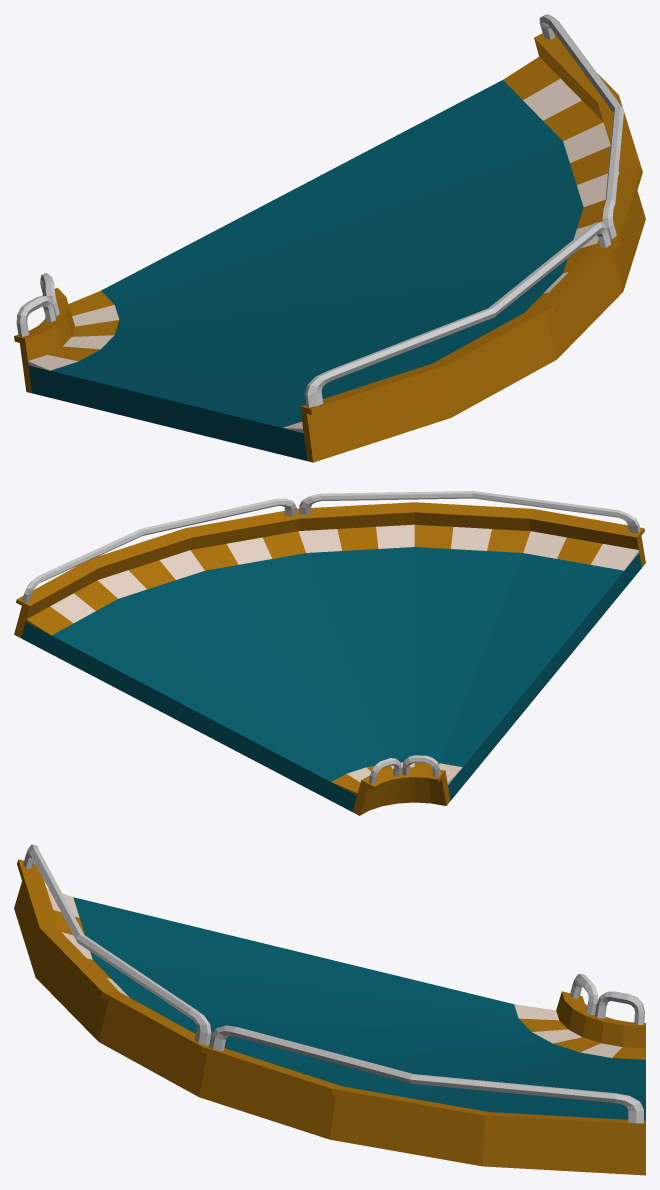
File: bankedLeft-90-15_s.FBX
3 renders of one model, top to bottom at view 1: azimuth 30°, elevation 25°; view 2: azimuth 150°, elevation 25°; view 3: azimuth 270°, elevation 25°, orthographic. The views are drawn at different scales.
Parts seen in each view (by area): view 1: bankedLeft-90-15_s, wall_r, curbs_r, wall_l, curbs_l; view 2: bankedLeft-90-15_s, wall_r, curbs_r, wall_l, curbs_l; view 3: bankedLeft-90-15_s, wall_r, wall_l, curbs_l, curbs_r.
Boxes of the visible parts, <box> form: bankedLeft-90-15_s: <box>28,80,583,460</box>; wall_r: <box>300,14,645,462</box>; curbs_r: <box>283,57,619,432</box>; wall_l: <box>14,273,74,393</box>; curbs_l: <box>28,290,119,370</box>; bankedLeft-90-15_s: <box>21,547,641,811</box>; wall_r: <box>14,491,645,637</box>; curbs_r: <box>25,524,639,635</box>; wall_l: <box>352,755,450,815</box>; curbs_l: <box>331,762,462,795</box>; bankedLeft-90-15_s: <box>73,897,645,1120</box>; wall_r: <box>14,844,645,1175</box>; wall_l: <box>556,974,645,1048</box>; curbs_l: <box>514,1004,645,1059</box>; curbs_r: <box>46,888,129,997</box>.
Size of what is drawn, in the model's own units: 224 by 80.3 by 224.
